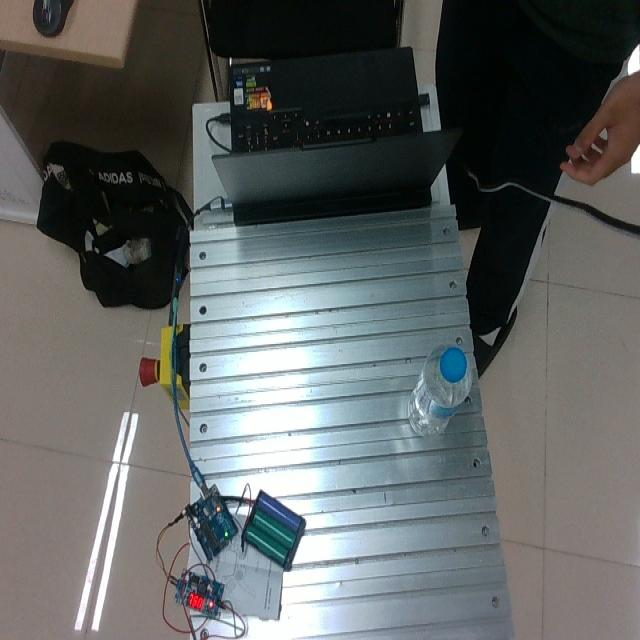lavie: (406, 341, 473, 436)
